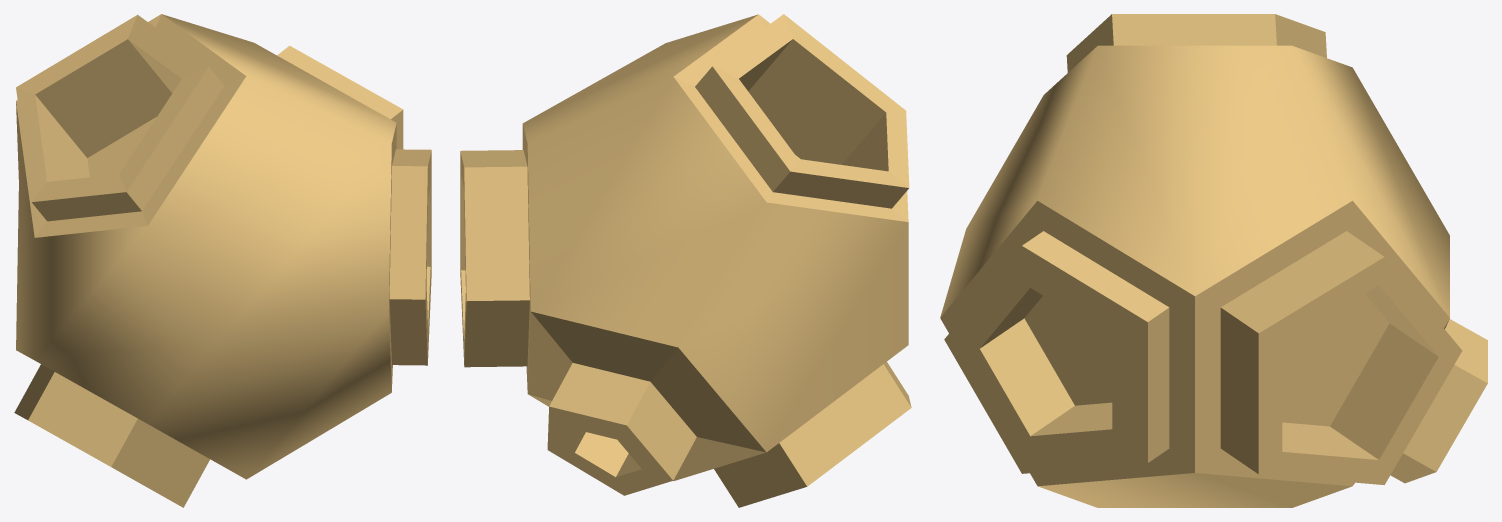
The model's file is meteor.fbx.
3 views of the same model, side by side, from view 1: azimuth 30°, elevation 25°; view 2: azimuth 150°, elevation 25°; view 3: azimuth 270°, elevation 25° (orthographic). The views are drawn at different scales.
Visible parts, largest first — view 1: pSolid1; view 2: pSolid1; view 3: pSolid1.
Boxes of the visible parts, bbox=[...] form: pSolid1: bbox=[14, 14, 431, 507]; pSolid1: bbox=[460, 14, 911, 507]; pSolid1: bbox=[940, 14, 1487, 507].
Bounding box in the file's own units: 6.4 × 6.51 × 6.43.
